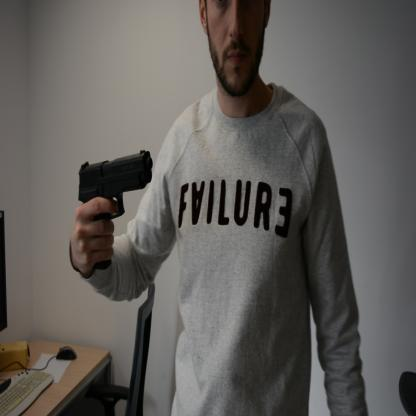pistol: (77, 147, 153, 271)
